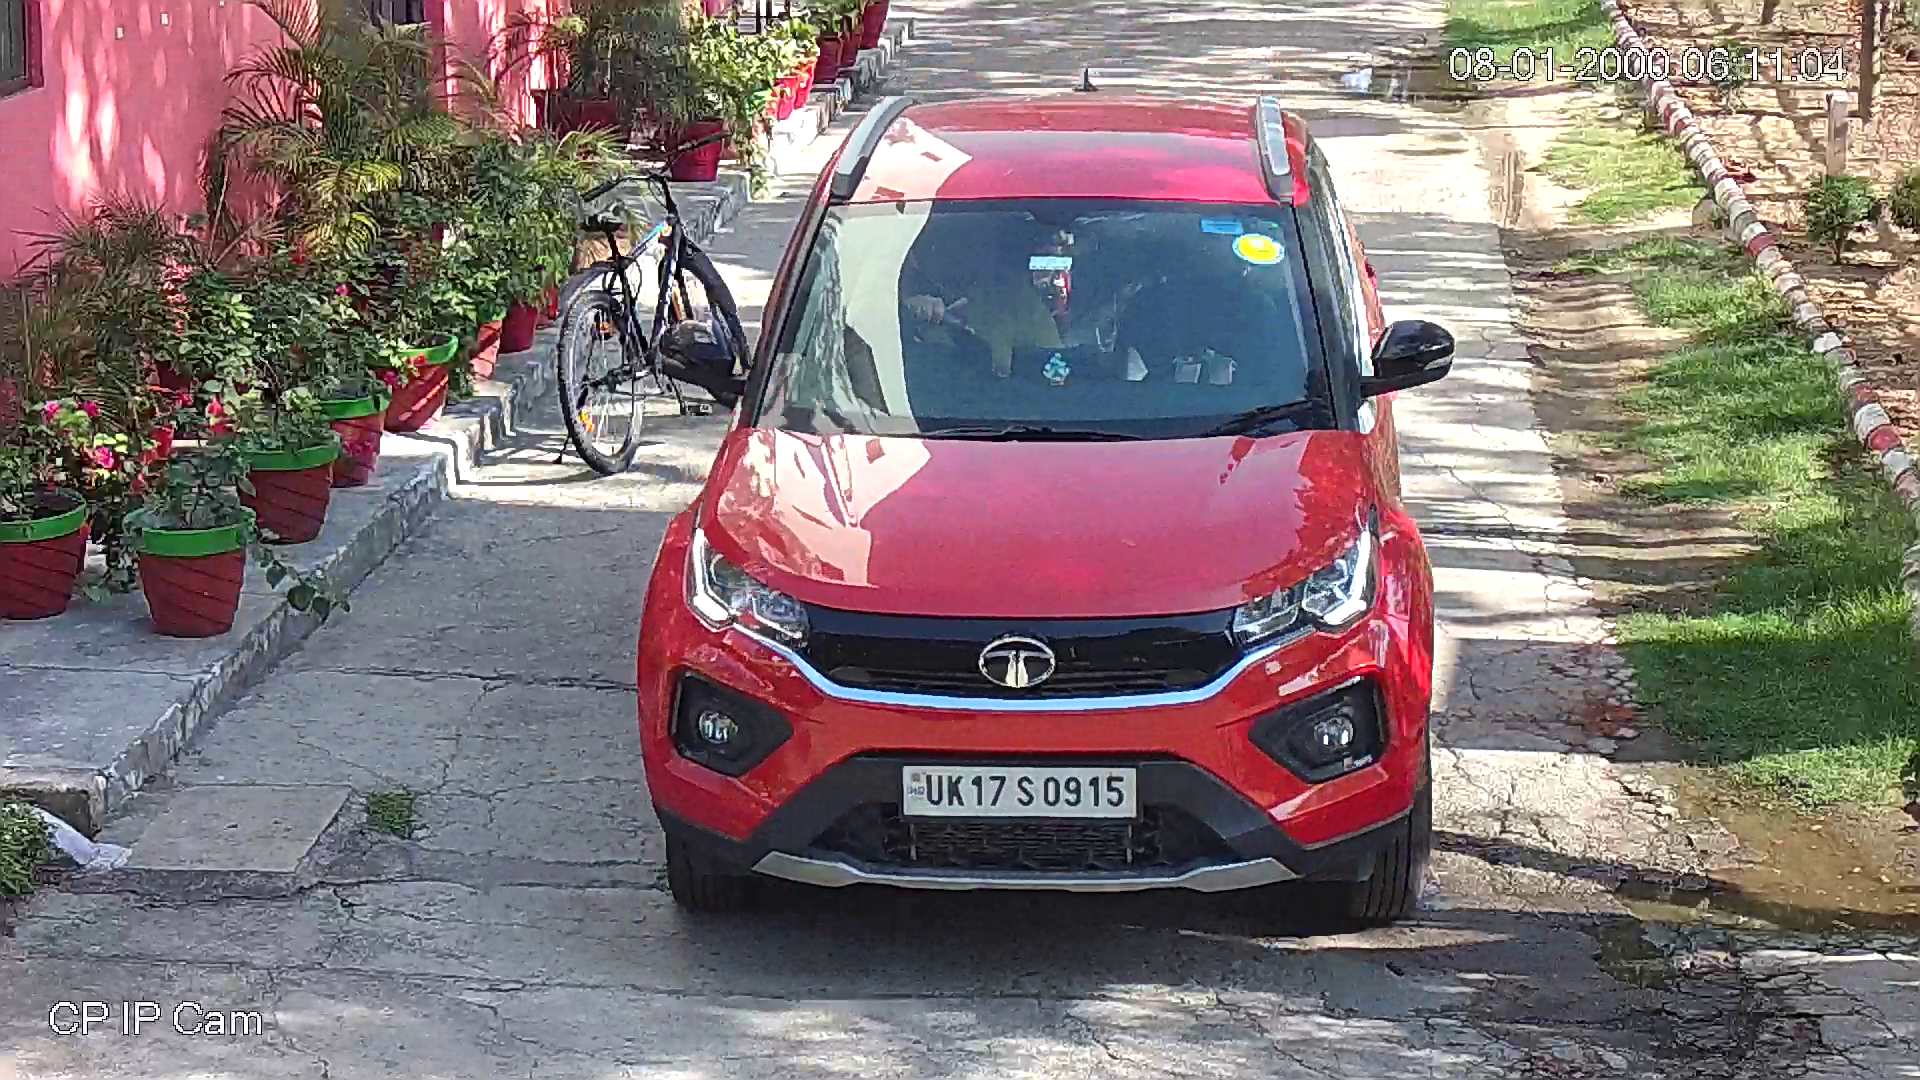plate: (898, 761, 1141, 822)
